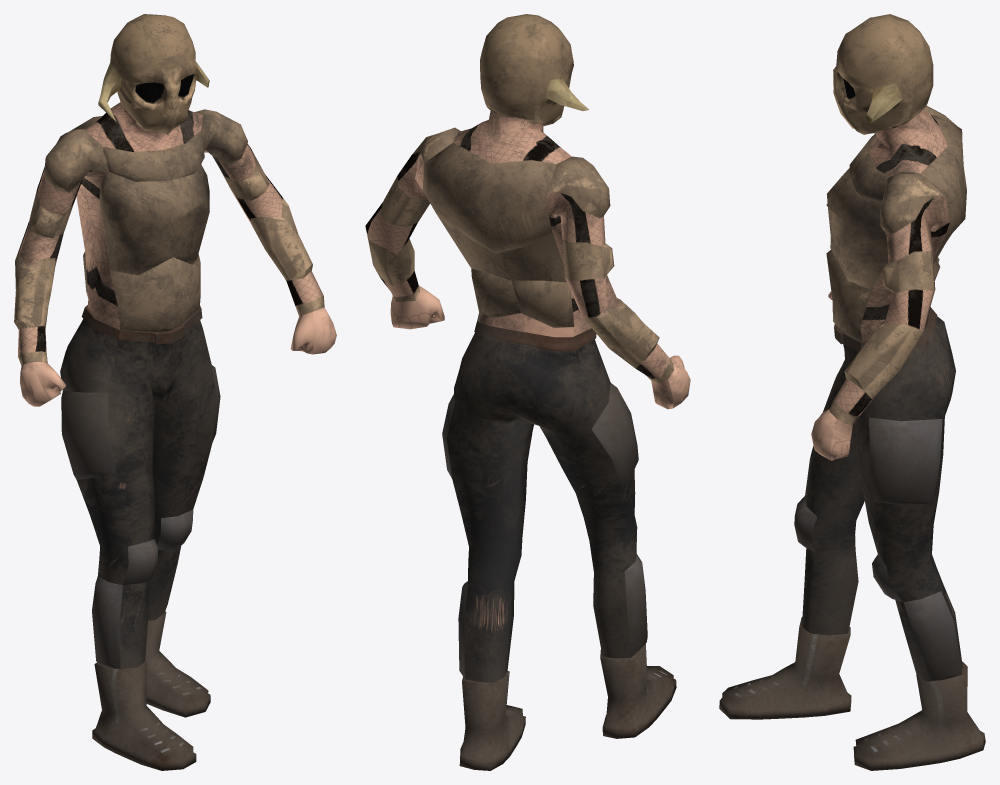
File: Anim_interruptor_npc1.0019.obj
3 views of the same model, side by side, from view 1: azimuth 30°, elevation 25°; view 2: azimuth 150°, elevation 25°; view 3: azimuth 270°, elevation 25° (orthographic). The views are drawn at different scales.
Visible parts, largest first — view 1: NPC2; view 2: NPC2; view 3: NPC2.
Part boxes in pixels (x1,y1,x2,y2): NPC2: (14, 14, 336, 770); NPC2: (365, 14, 690, 770); NPC2: (719, 14, 985, 770).
Bounding box in the file's own units: 4.26 × 9.56 × 3.17.
